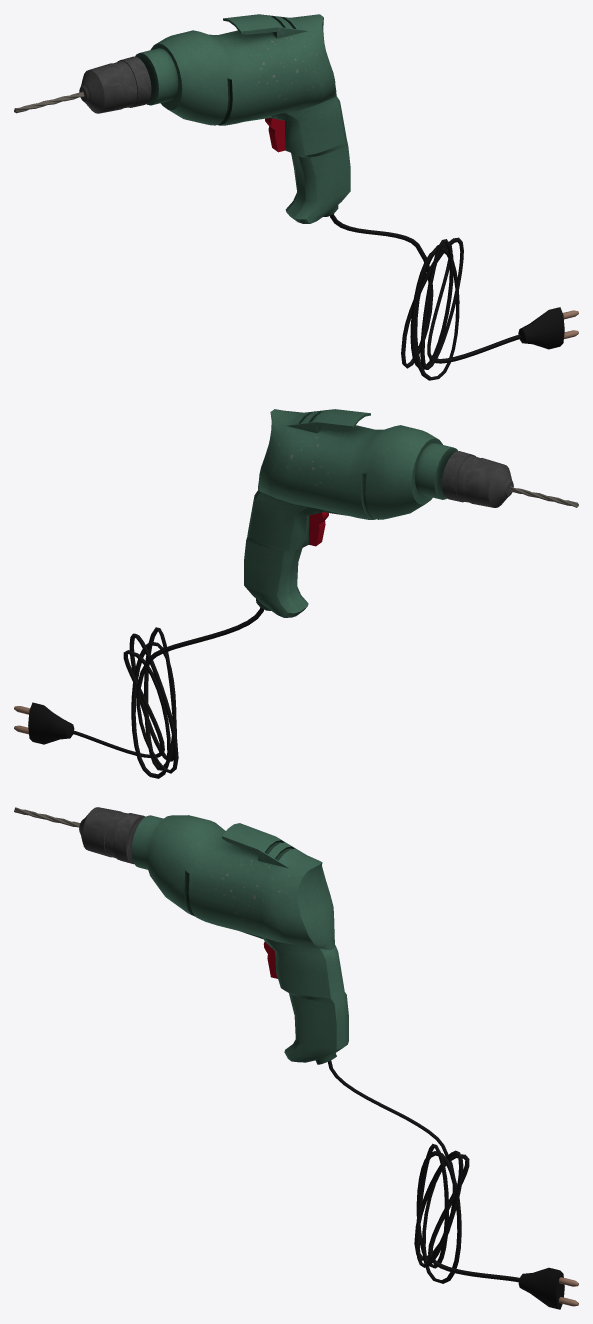
The model's file is power_drill_with_a_cord.glb.
3 views of the same model, one above another, from view 1: azimuth 30°, elevation 25°; view 2: azimuth 150°, elevation 25°; view 3: azimuth 330°, elevation 25° (orthographic).
Parts seen in each view (by area): view 1: Circle, Line, Circle.002; view 2: Circle, Line, Circle.002; view 3: Circle, Line, Circle.002.
Boxes of the visible parts, left/top/right/bottom form: Circle: left=79, top=14, right=350, bottom=223; Line: left=330, top=214, right=520, bottom=380; Circle.002: left=518, top=307, right=564, bottom=349; Circle: left=244, top=409, right=513, bottom=617; Line: left=71, top=607, right=263, bottom=778; Circle.002: left=28, top=702, right=74, bottom=744; Circle: left=79, top=807, right=348, bottom=1064; Line: left=328, top=1060, right=519, bottom=1283; Circle.002: left=518, top=1267, right=564, bottom=1309.
Size of the model in its own units: 0.4687 by 0.3258 by 0.0623.
Materials: 1 (1 with a texture image).
